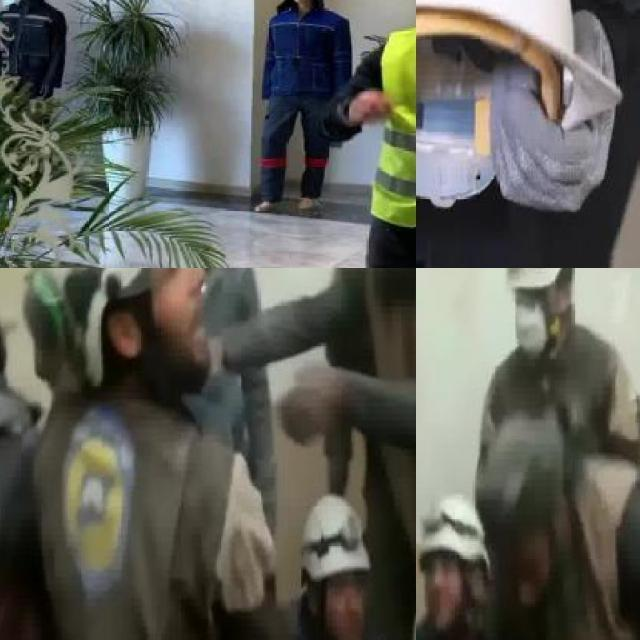apron: (488, 7, 619, 215)
